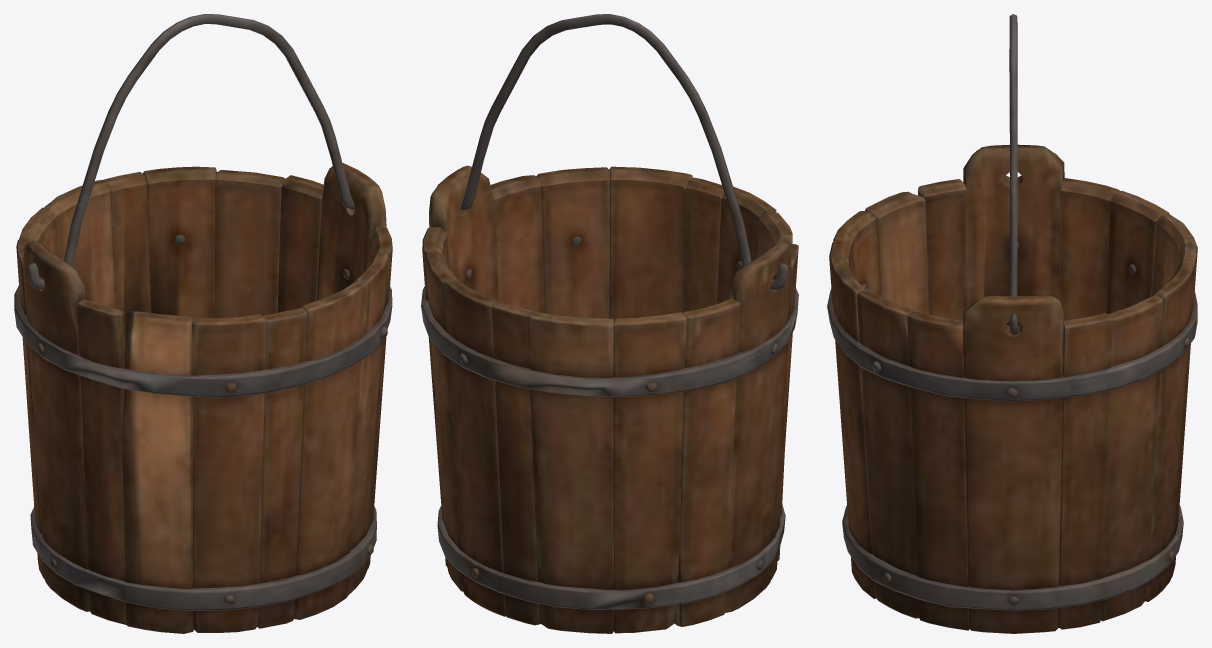
File: ph_wooden_bucket_01.glb
The picture shows the model from 3 angles, left to right: view 1: azimuth 30°, elevation 25°; view 2: azimuth 150°, elevation 25°; view 3: azimuth 270°, elevation 25°; orthographic projection.
Parts seen in each view (by area): view 1: wooden_bucket_01; view 2: wooden_bucket_01; view 3: wooden_bucket_01.
Boxes of the visible parts, x1,y1,x2,y2 form: wooden_bucket_01: (14,14,392,633); wooden_bucket_01: (421,14,798,633); wooden_bucket_01: (827,14,1197,633).
Bounding box in the file's own units: 0.367 × 0.5499 × 0.3419.
1 material, 1 textured.
